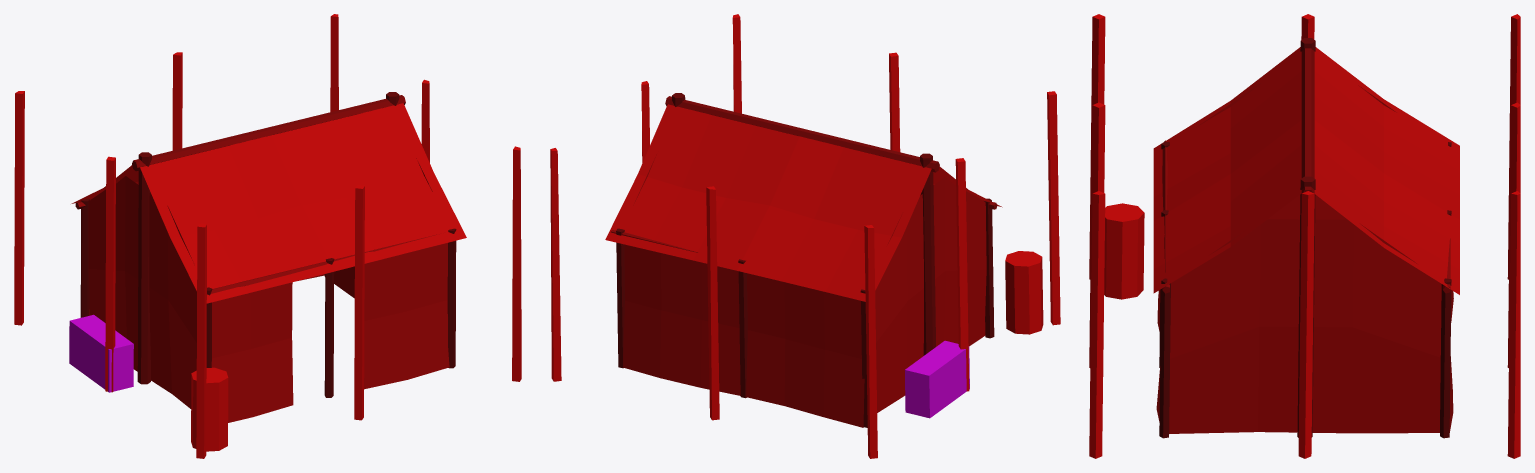
The model's file is common_housing_1_lod1.glb.
The picture shows the model from 3 angles, left to right: view 1: azimuth 30°, elevation 25°; view 2: azimuth 150°, elevation 25°; view 3: azimuth 270°, elevation 25°; orthographic projection. The views are drawn at different scales.
Parts seen in each view (by area): view 1: common_housing_1_lod1; view 2: common_housing_1_lod1; view 3: common_housing_1_lod1.
Boxes of the visible parts, x1,y1,x2,y2 form: common_housing_1_lod1: (14, 14, 521, 458); common_housing_1_lod1: (550, 14, 1060, 458); common_housing_1_lod1: (1089, 14, 1520, 458).
Size of the model in its own units: 2 by 1.35 by 2.
